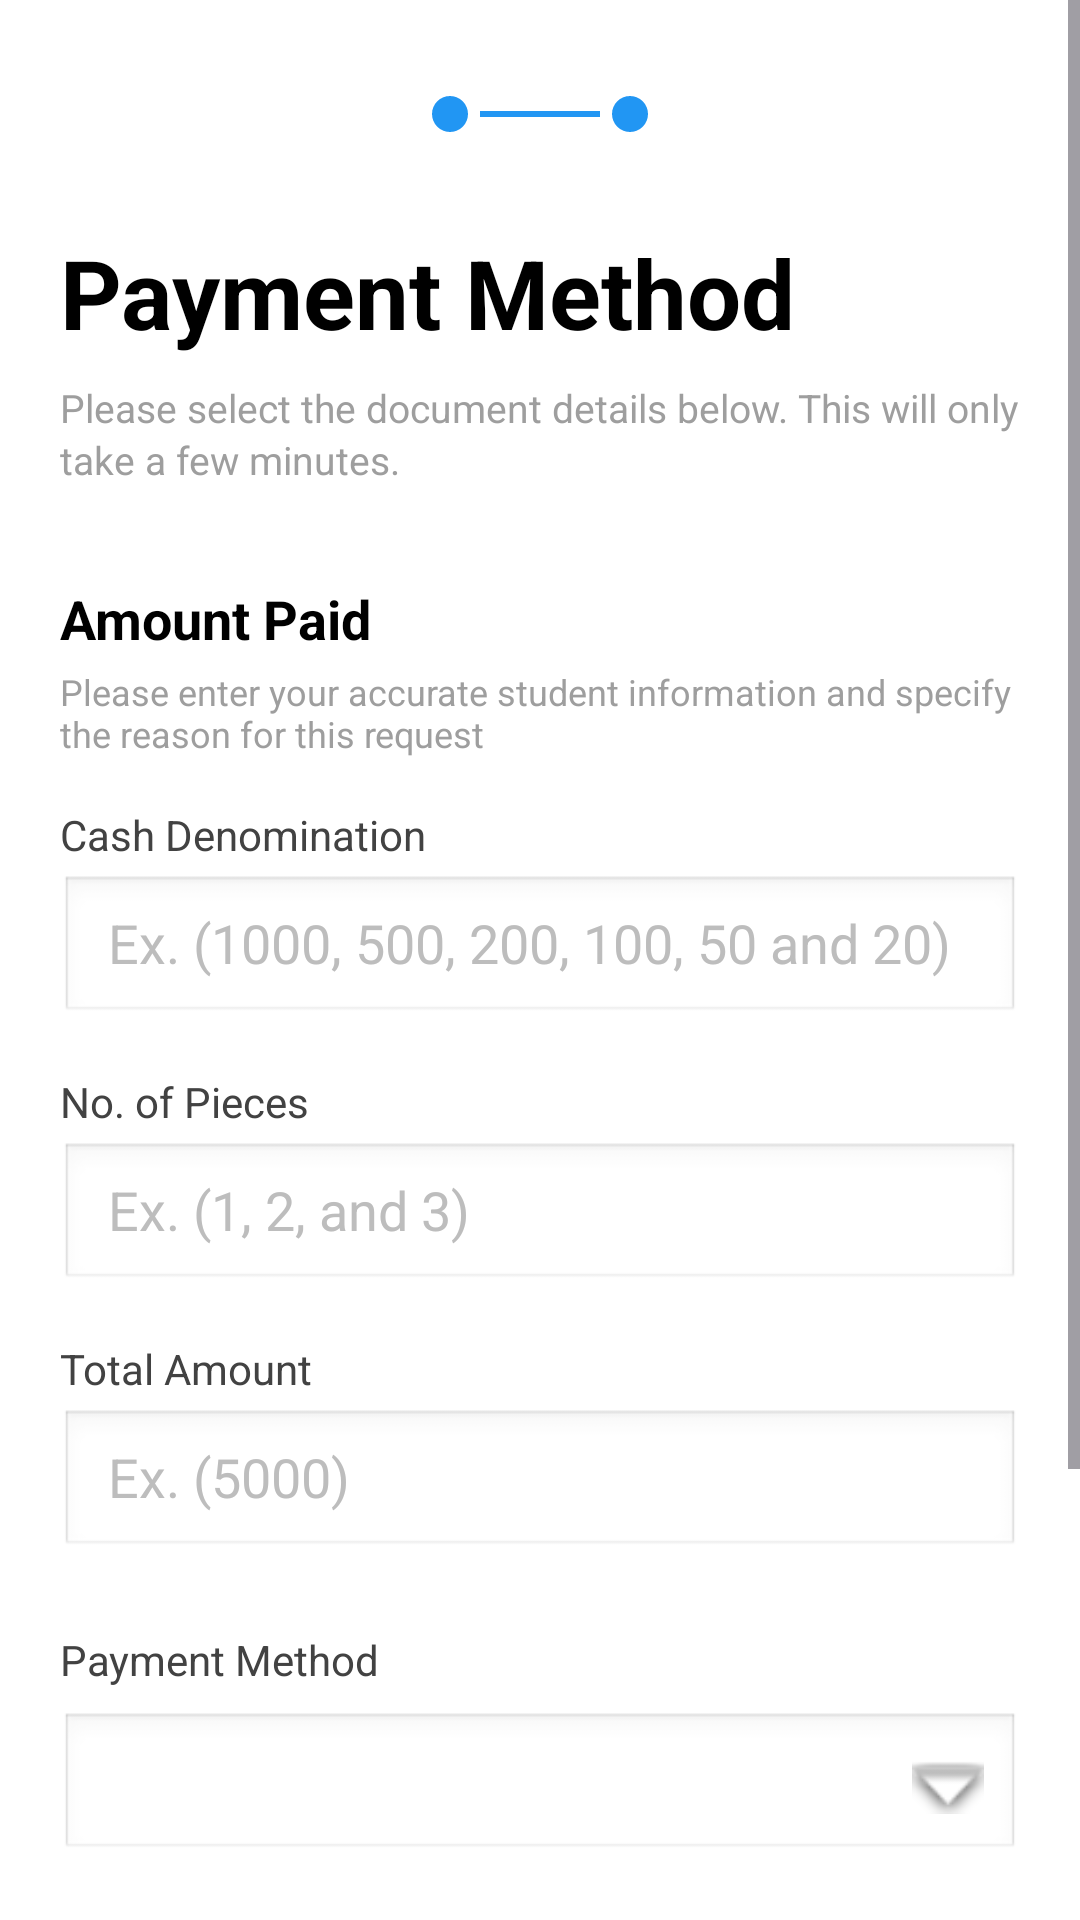

Icon click points for this 1080 × 1920 phone screenshot, format (x,y):
Dropdown arrow: (948,1787)
